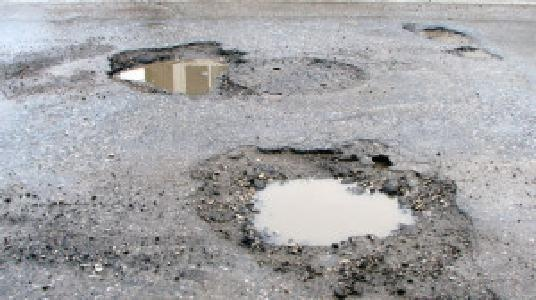pothole: (189, 139, 475, 298), (103, 38, 259, 98), (401, 19, 468, 44), (444, 44, 501, 61)
